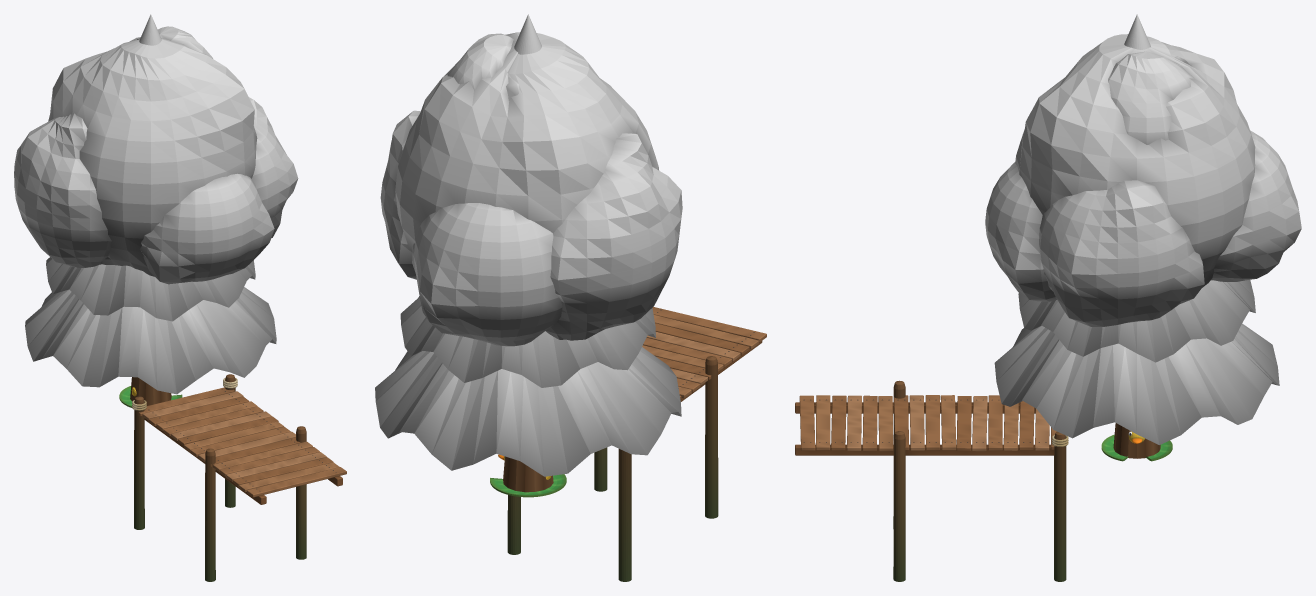
The model's file is soe.glb.
3 views of the same model, side by side, from view 1: azimuth 30°, elevation 25°; view 2: azimuth 150°, elevation 25°; view 3: azimuth 270°, elevation 25° (orthographic). The views are drawn at different scales.
Parts seen in each view (by area): view 1: løvkrone0, granlag0, løvkrone2, løvkrone3, granlag1, løvkrone1, pæl-1.25_5, pæl-1.25_1.62, pæl1.25_5, planke16, planke15, planke6 (+16 smaller); view 2: løvkrone0, granlag0, løvkrone2, løvkrone4, granlag1, løvkrone1, løvkrone5, pæl-1.25_5, pæl-1.25_1.62, granstamme, planke16, planke15 (+8 smaller); view 3: løvkrone0, granlag0, løvkrone1, granlag1, løvkrone4, løvkrone3, løvkrone5, pæl1.25_5, pæl1.25_1.62, bjælke1.05, granstamme, planke7 (+13 smaller).
Boxes of the visible parts, box(x1,y1,x2,y2) form: løvkrone0: box(48, 37, 257, 276); granlag0: box(25, 287, 276, 394); løvkrone2: box(14, 113, 111, 267); løvkrone3: box(139, 173, 274, 284); granlag1: box(46, 257, 255, 321); løvkrone1: box(249, 97, 298, 237); pæl-1.25_5: box(205, 448, 215, 581); pæl-1.25_1.62: box(134, 396, 144, 529); pæl1.25_5: box(296, 426, 306, 559); planke16: box(247, 467, 346, 497); planke15: box(239, 462, 339, 492); planke6: box(178, 416, 278, 445); løvkrone0: box(395, 32, 659, 253); granlag0: box(375, 347, 681, 476); løvkrone2: box(546, 133, 682, 340); løvkrone4: box(412, 203, 562, 346); granlag1: box(400, 296, 655, 387); løvkrone1: box(380, 110, 420, 279); løvkrone5: box(444, 33, 519, 100); pæl-1.25_5: box(705, 356, 718, 518); pæl-1.25_1.62: box(618, 449, 631, 581); granstamme: box(503, 456, 553, 492); planke16: box(652, 307, 766, 342); planke15: box(653, 315, 758, 349); løvkrone0: box(1015, 34, 1255, 287); granlag0: box(994, 323, 1279, 444); løvkrone1: box(1039, 180, 1204, 326); granlag1: box(1018, 280, 1255, 362); løvkrone4: box(1211, 130, 1301, 281); løvkrone3: box(985, 162, 1057, 301); løvkrone5: box(1108, 51, 1194, 144); pæl1.25_5: box(893, 431, 905, 581); pæl1.25_1.62: box(1054, 431, 1066, 581); bjælke1.05: box(795, 444, 1054, 455); granstamme: box(1113, 423, 1160, 458); planke7: box(940, 395, 956, 450).
Size of the model in its own units: 6.64 by 12.55 by 10.67.
